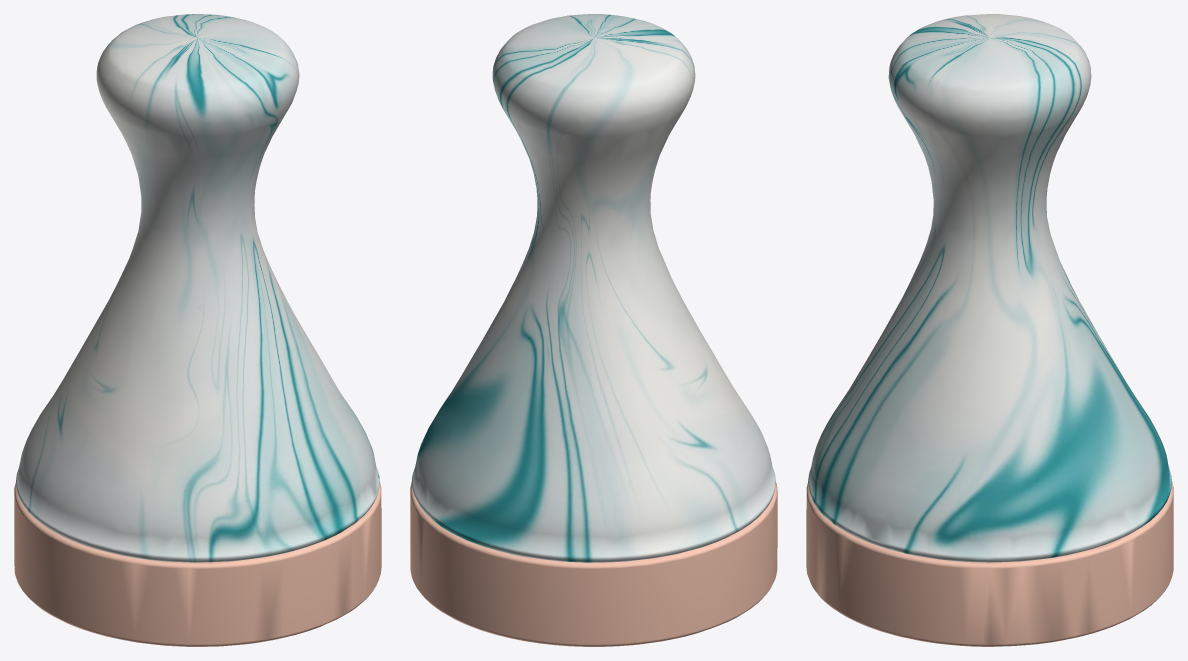
Rendered from pawn-white.glb.
3 views of the same model, side by side, from view 1: azimuth 30°, elevation 25°; view 2: azimuth 150°, elevation 25°; view 3: azimuth 270°, elevation 25° (orthographic).
Parts seen in each view (by area): view 1: pesec_bila; view 2: pesec_bila; view 3: pesec_bila.
Boxes of the visible parts, box(x1,y1,x2,y2) form: pesec_bila: box(14, 14, 381, 646); pesec_bila: box(410, 14, 777, 646); pesec_bila: box(806, 14, 1173, 646).
Bounding box in the file's own units: 0.6742 × 1.08 × 0.6744.
2 materials, 1 textured.
